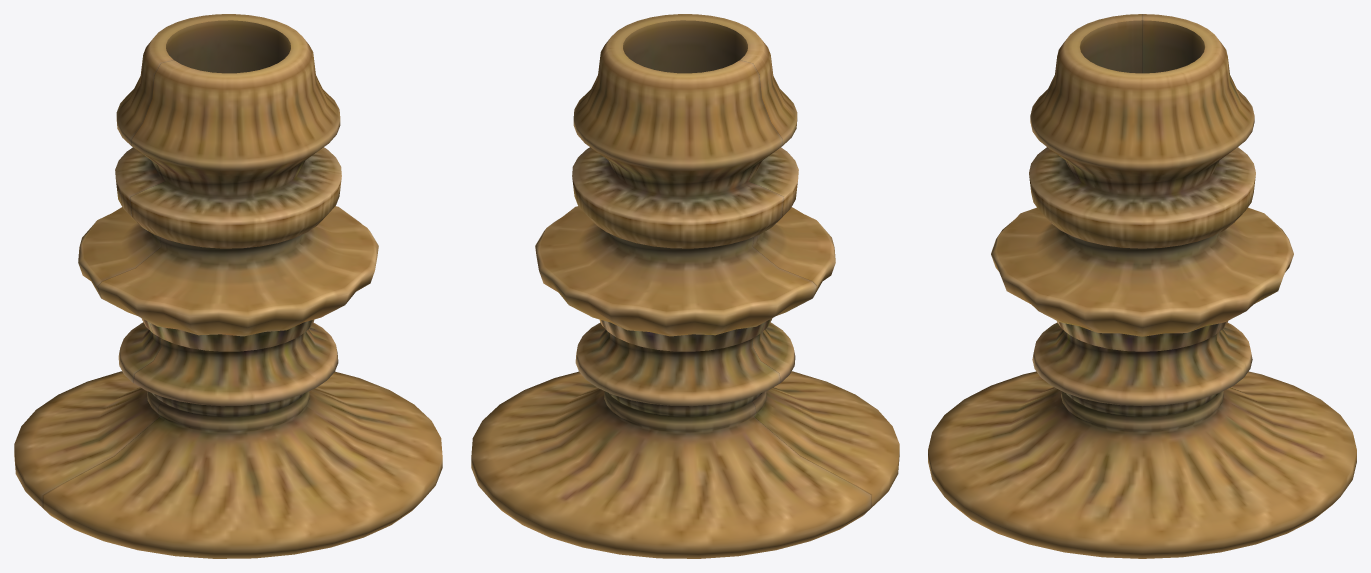
The model's file is obj_ornate_antique_candlestick.glb.
The picture shows the model from 3 angles, left to right: view 1: azimuth 30°, elevation 25°; view 2: azimuth 150°, elevation 25°; view 3: azimuth 270°, elevation 25°; orthographic projection.
Visible parts, largest first — view 1: LP_Quad__0; view 2: LP_Quad__0; view 3: LP_Quad__0.
Part boxes in pixels (<box>): LP_Quad__0: <box>14,14,442,558</box>; LP_Quad__0: <box>471,14,899,558</box>; LP_Quad__0: <box>928,14,1356,558</box>.
Bounding box in the file's own units: 0.2741 × 0.3 × 0.2741.
Materials: 1 (1 with a texture image).
